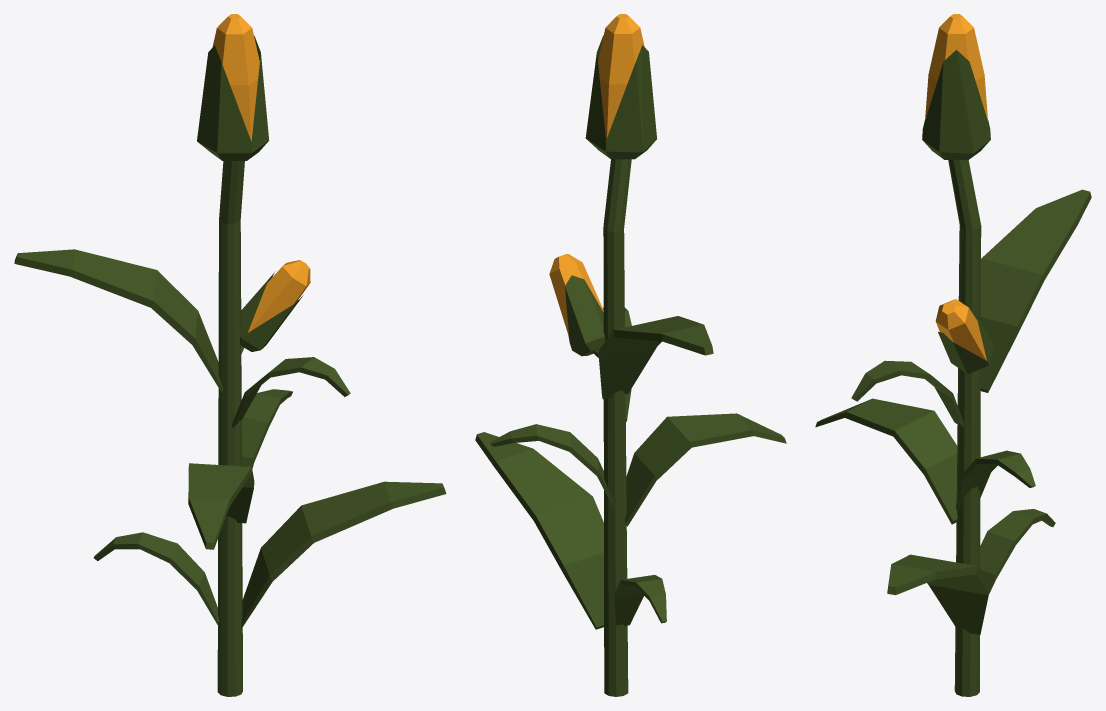
Rendered from Corn_2.fbx.
The picture shows the model from 3 angles, left to right: view 1: azimuth 30°, elevation 25°; view 2: azimuth 150°, elevation 25°; view 3: azimuth 270°, elevation 25°; orthographic projection.
Parts seen in each view (by area): view 1: Corn_2; view 2: Corn_2; view 3: Corn_2.
Boxes of the visible parts, box(x1,y1,x2,y2) form: Corn_2: box(14, 14, 446, 696); Corn_2: box(475, 14, 786, 696); Corn_2: box(815, 14, 1091, 696).
Bounding box in the file's own units: 99.44 × 192 × 71.37.
